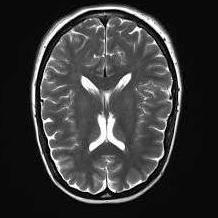Normal_Brain: (1, 1, 216, 218)
